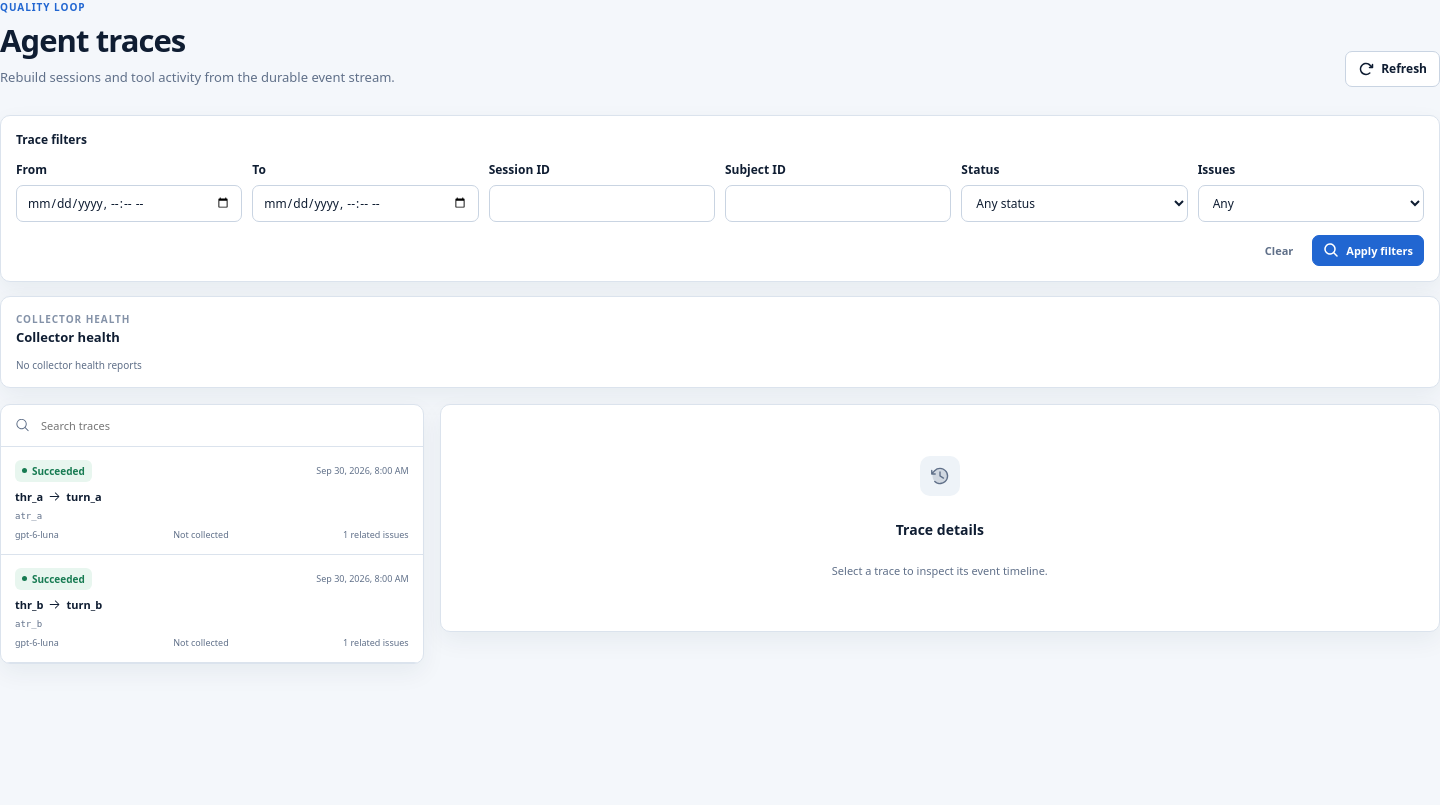
Test: TraceWorkbench durable replay › does not let an older trace request replace the latest selection
This screenshot has width=1440, height=805.
Step 1. Click the 4th button → (53, 471), box 1,447 -> 423,555
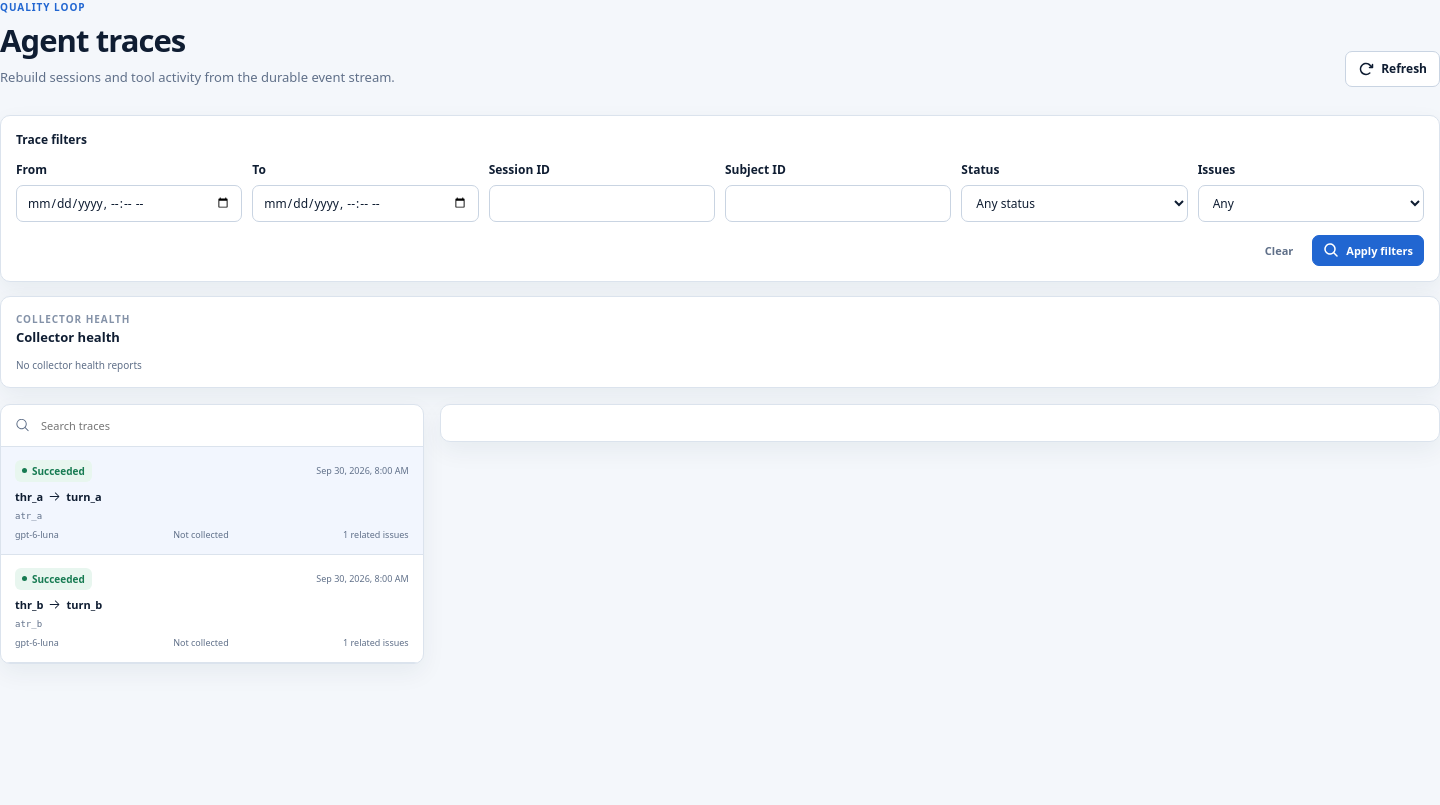
Step 2. Click the 5th button → (53, 579), box 1,555 -> 423,663
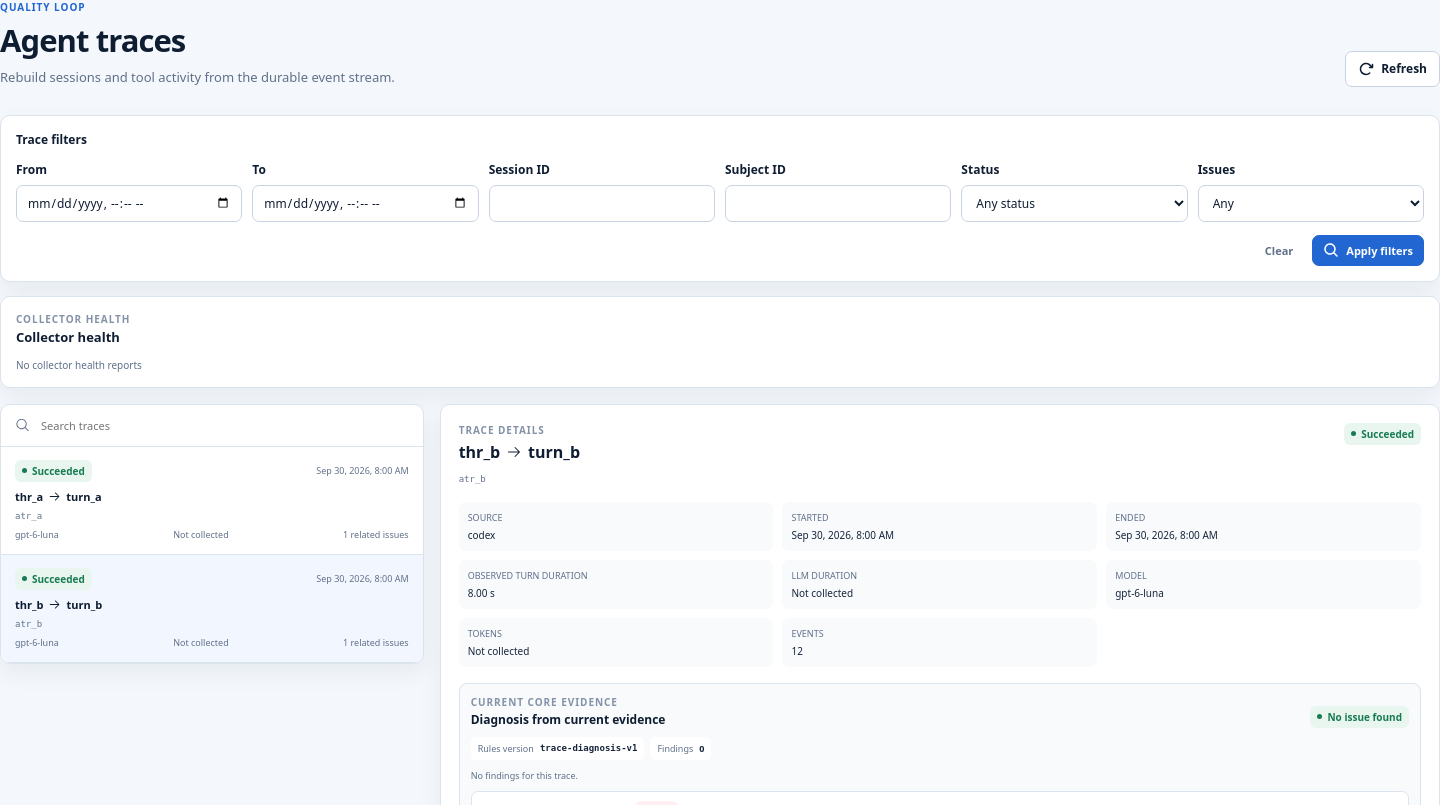
Now the text "atr_b" below "Trace details" is shown, box 459,474 -> 486,484
